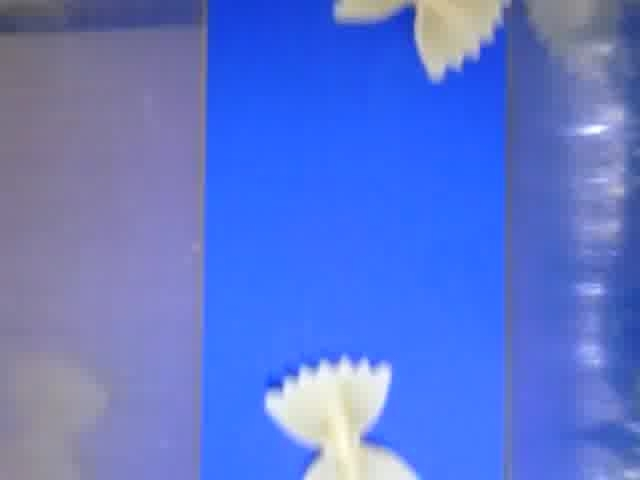farfalle: (266, 355, 418, 480), (335, 1, 505, 81)
